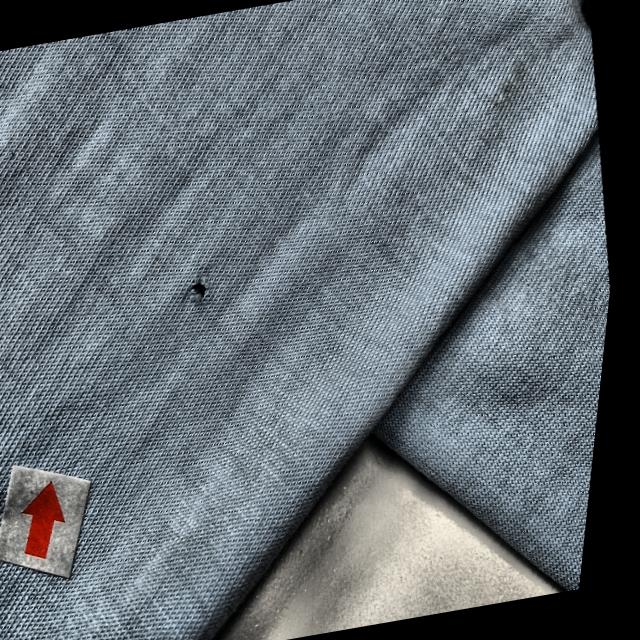Hole: (181, 266, 224, 316)
